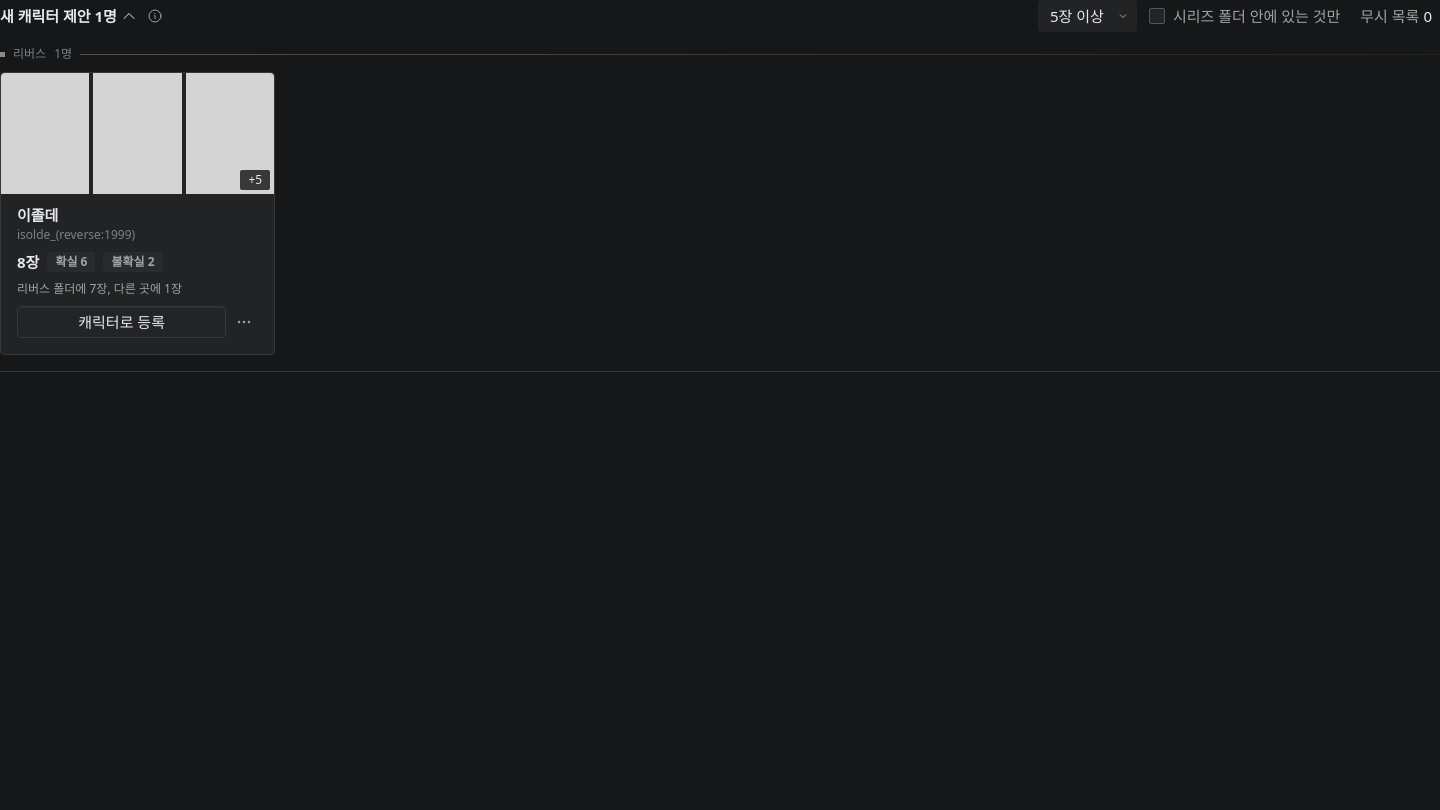
Scenario: character suggestions › puts the explanation behind a help button
The image size is (1440, 810).
Expected: the text "이졸데" is shown, [17,205,58,225]
Expected: the text "자동으로 만들지 않고" is not shown
Step 1. Click the button named "새 캐릭터 제안 도움말" → click(155, 16), box [141,2,169,30]
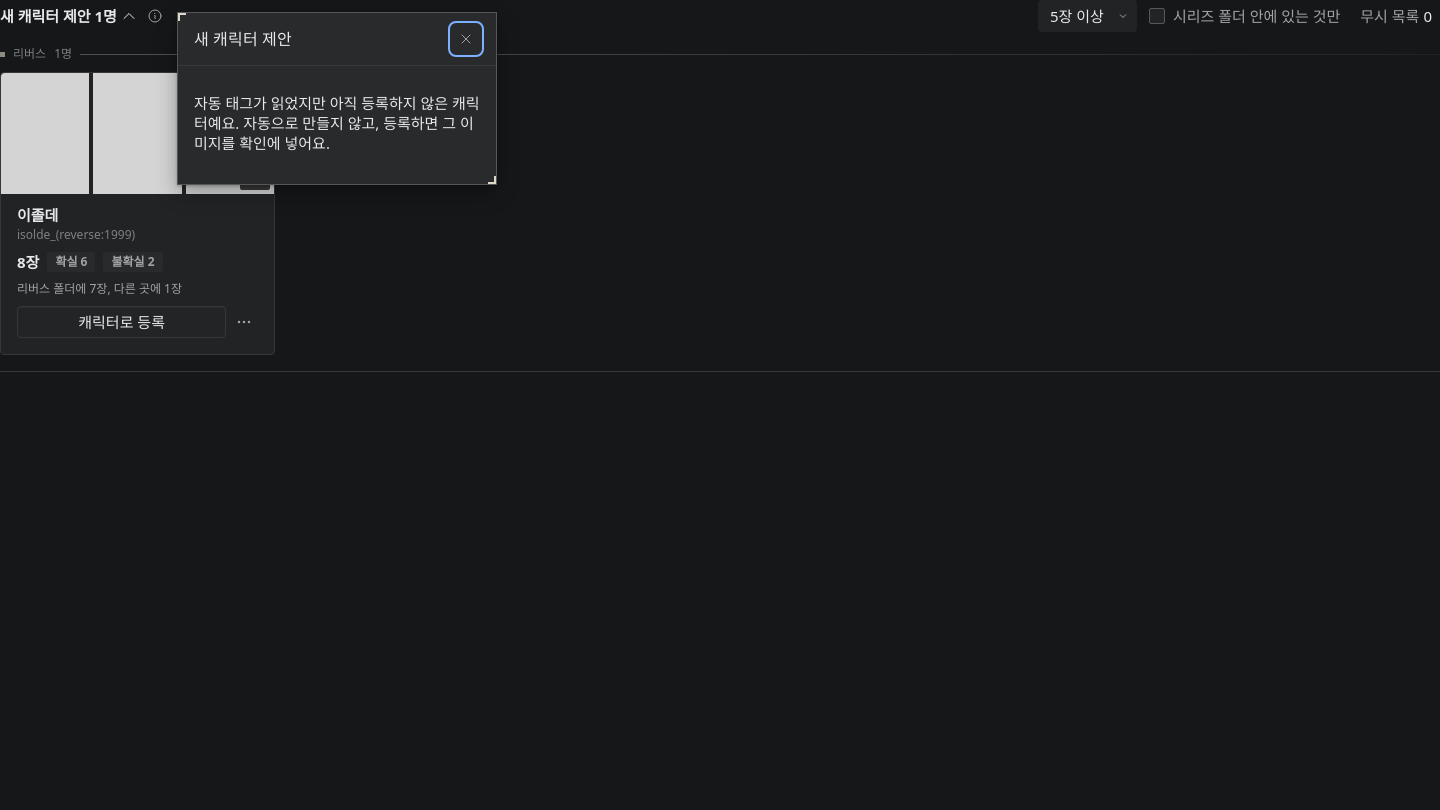
Expected: the text "자동으로 만들지 않고" is shown, [194,93,480,153]
